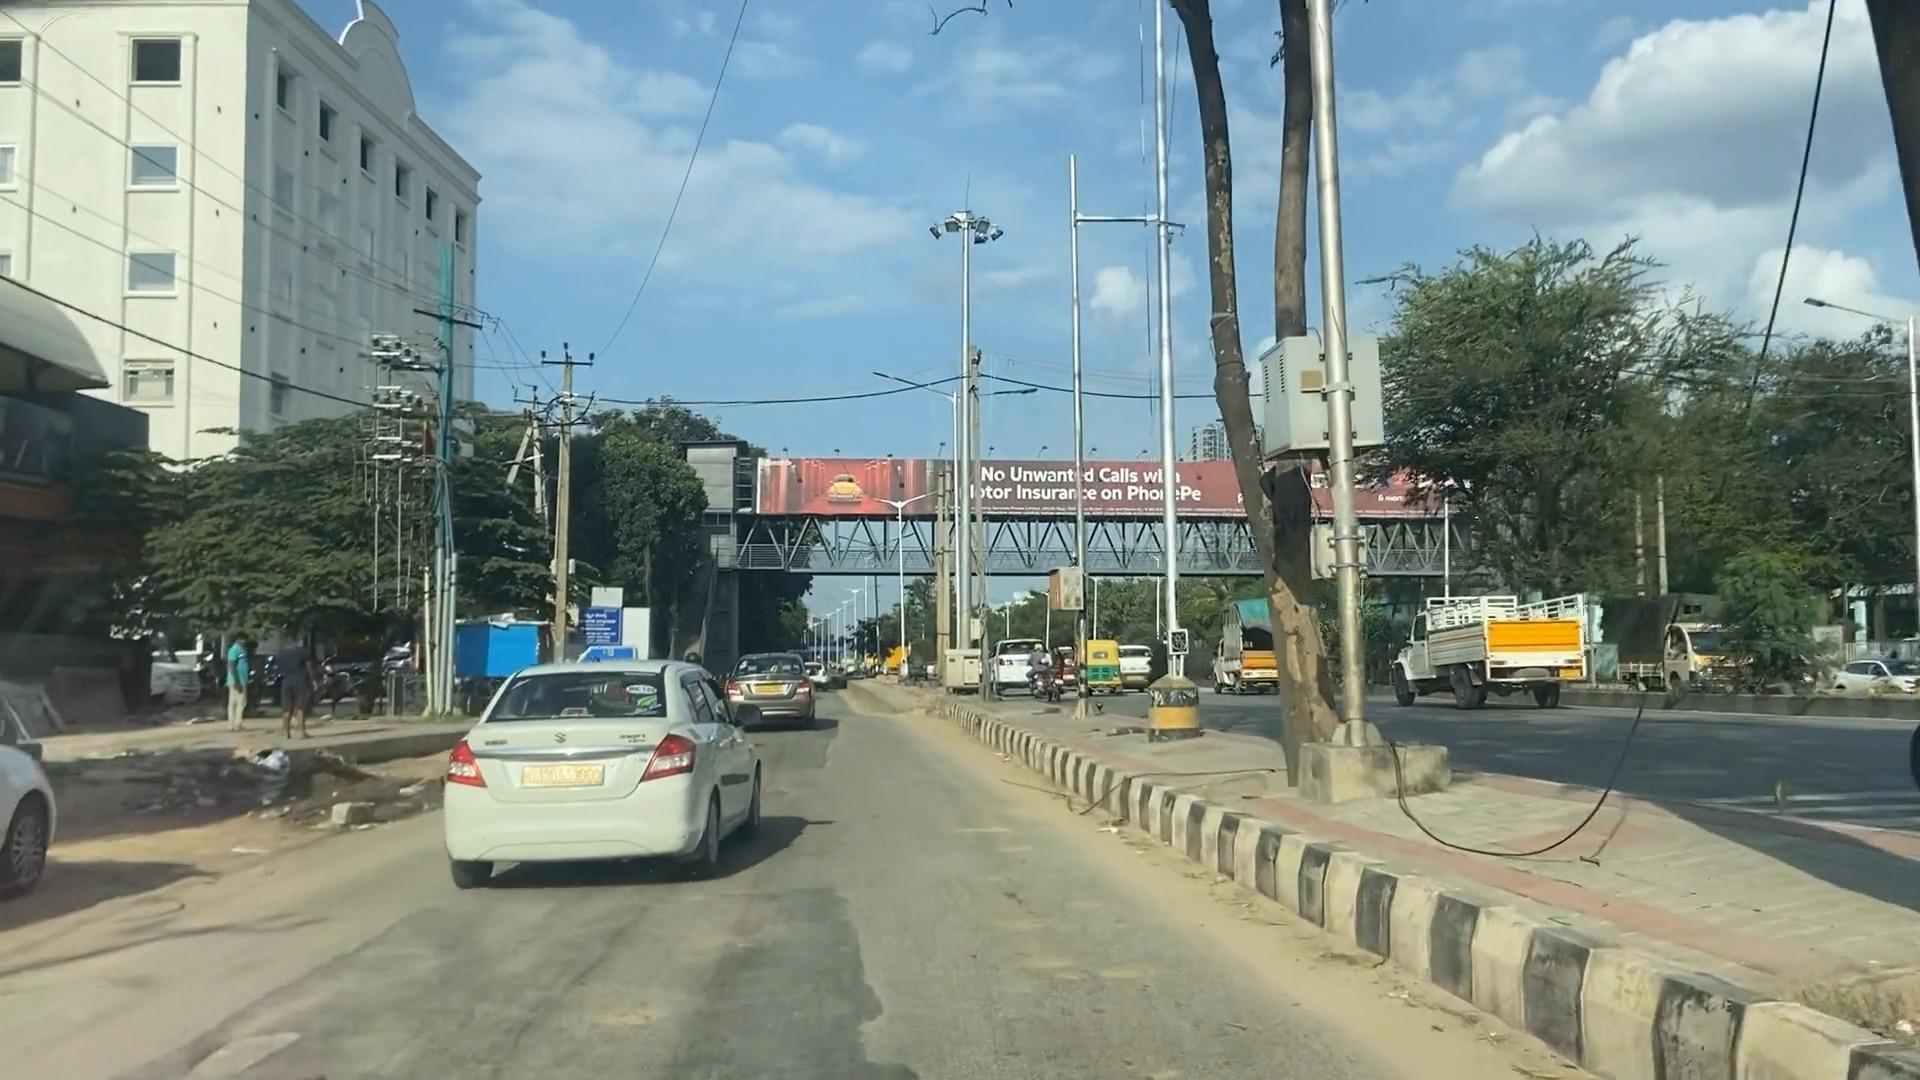LMV: (446, 658, 749, 890), (723, 646, 822, 725)
UnsurfacedRoad: (318, 901, 920, 1080)
